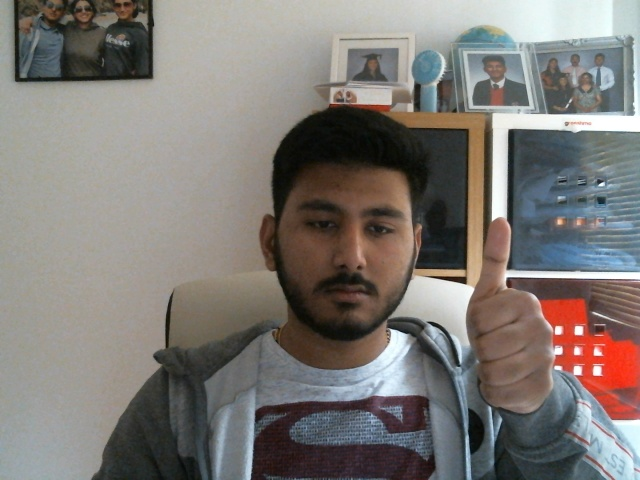good: (465, 216, 554, 409)
